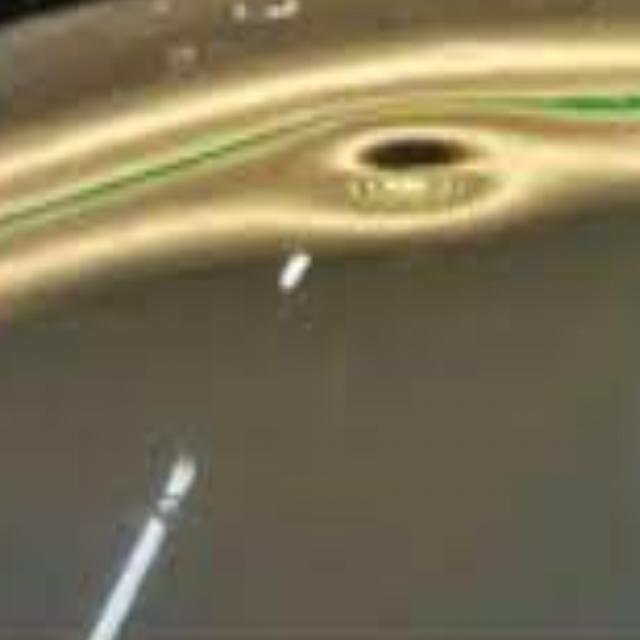dents: (322, 115, 507, 251)
